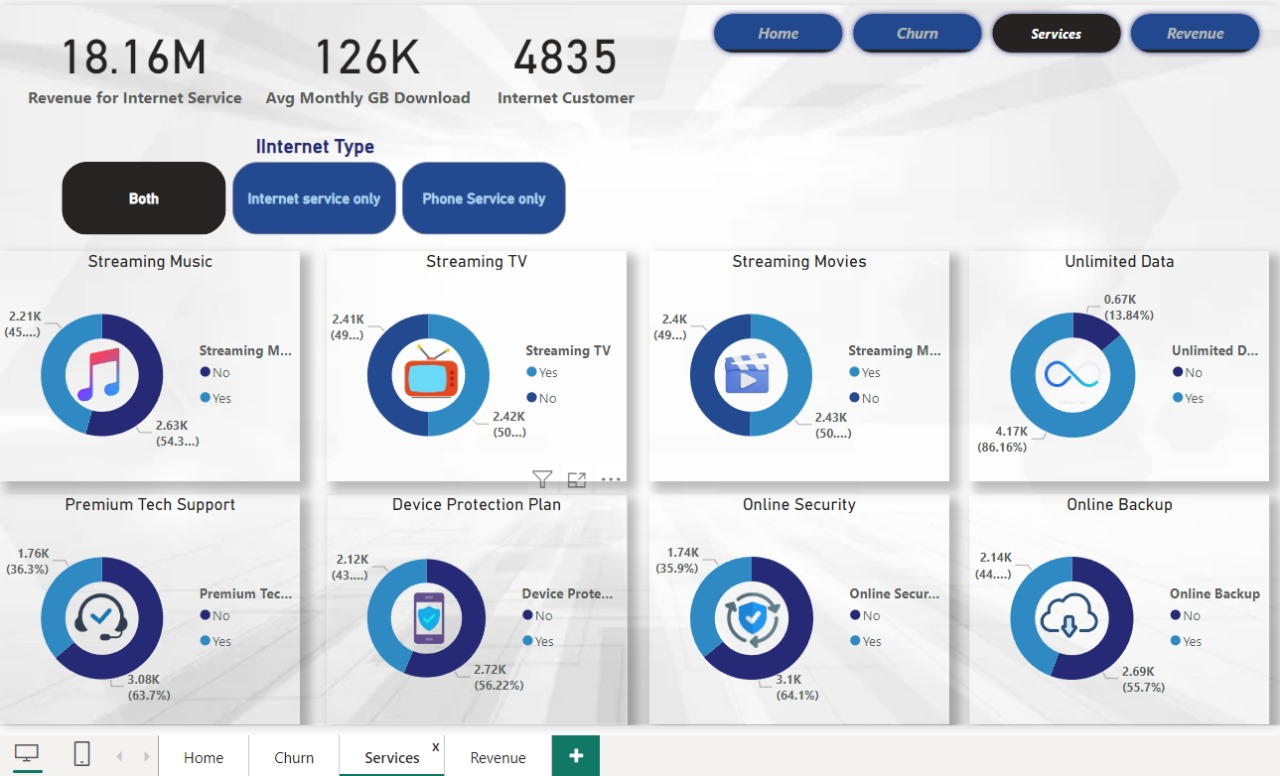

The dashboard page shown, as its layout file describes it:
{"tool":"powerbi","page":{"name":"Services","canvas":[1280,720],"ordinal":2},"visuals":[{"type":"donutChart","title":"Online Backup","fields":{"Category":["telecom_customer.Online Backup"],"Y":["CountNonNull(telecom_customer.Customer ID)"]},"box":[969.8,489.2,300.4,230.5],"z":0},{"type":"donutChart","title":" Online Security","fields":{"Y":["CountNonNull(telecom_customer.Customer ID)"],"Category":["telecom_customer.Online Security"]},"box":[648.6,489.2,300.4,230.5],"z":1000},{"type":"donutChart","title":"Device Protection Plan","fields":{"Category":["telecom_customer.Device Protection Plan"],"Y":["CountNonNull(telecom_customer.Customer ID)"]},"box":[326.1,489.2,300.4,230.5],"z":2000},{"type":"donutChart","title":"Streaming TV","fields":{"Category":["telecom_customer.Streaming TV"],"Y":["CountNonNull(telecom_customer.Customer ID)"]},"box":[326.1,245.2,300.4,230.5],"z":3000},{"type":"donutChart","title":" Streaming Music","fields":{"Y":["CountNonNull(telecom_customer.Customer ID)"],"Category":["telecom_customer.Streaming Music"]},"box":[0,245.2,300.4,230.5],"z":4000},{"type":"donutChart","title":"Streaming Movies","fields":{"Y":["CountNonNull(telecom_customer.Customer ID)"],"Category":["telecom_customer.Streaming Movies"]},"box":[648.6,245.2,300.4,230.5],"z":5000},{"type":"donutChart","title":"Premium Tech Support","fields":{"Y":["CountNonNull(telecom_customer.Customer ID)"],"Category":["telecom_customer.Premium Tech Support"]},"box":[0,489.2,300.4,230.5],"z":6000},{"type":"image","box":[36.8,326.1,127.5,88.3],"z":7000},{"type":"donutChart","title":"Unlimited Data","fields":{"Y":["CountNonNull(telecom_customer.Customer ID)"],"Category":["telecom_customer.Unlimited Data"]},"box":[969.8,245.2,300.4,230.5],"z":8000},{"type":"card","fields":{"Values":["telecom_customer.Count of Customer ID for Yes"]},"box":[460.8,0,210.9,114.2],"z":9000},{"type":"image","box":[998,577.5,142.2,67.4],"z":10000},{"type":"image","box":[681.7,335.9,130,67.4],"z":11000},{"type":"image","box":[370.3,583.6,118.9,61.3],"z":12000},{"type":"image","box":[326.1,313.9,209.7,112.8],"z":13000},{"type":"image","box":[693.9,583.6,117.7,65],"z":14000},{"type":"image","box":[998,335.9,150.8,78.5],"z":15000},{"type":"image","box":[19.6,567.7,161.8,90.7],"z":16000},{"type":"card","fields":{"Values":["telecom_customer.Total Revenue for Yes"]},"box":[10.7,0,243.2,114.2],"z":17000},{"type":"advancedSlicerVisual","title":"IInternet Type","fields":{"Values":["telecom_customer.Internet Type"]},"box":[56.7,124.3,479,111],"z":18000},{"type":"pageNavigator","box":[709.3,4,557.5,49.7],"z":19000},{"type":"card","fields":{"Values":["Sum(telecom_customer.Avg Monthly GB Download)"]},"box":[253.9,0,223,114.2],"z":20000}]}

Visuals, with their boxes on the page's 1280x720 design canvas (x1, y1, x2, y2). These are canvas units, not pixel positions in the 1280x776 screenshot, which may show the page scaled, cropped or inside an application window:
"Online Backup" donutChart: select_region(970, 489, 1270, 720)
" Online Security" donutChart: select_region(649, 489, 949, 720)
"Device Protection Plan" donutChart: select_region(326, 489, 626, 720)
"Streaming TV" donutChart: select_region(326, 245, 626, 476)
" Streaming Music" donutChart: select_region(0, 245, 300, 476)
"Streaming Movies" donutChart: select_region(649, 245, 949, 476)
"Premium Tech Support" donutChart: select_region(0, 489, 300, 720)
image: select_region(37, 326, 164, 414)
"Unlimited Data" donutChart: select_region(970, 245, 1270, 476)
card - telecom_customer.Count of Customer ID for Yes: select_region(461, 0, 672, 114)
image: select_region(998, 578, 1140, 645)
image: select_region(682, 336, 812, 403)
image: select_region(370, 584, 489, 645)
image: select_region(326, 314, 536, 427)
image: select_region(694, 584, 812, 649)
image: select_region(998, 336, 1149, 414)
image: select_region(20, 568, 181, 658)
card - telecom_customer.Total Revenue for Yes: select_region(11, 0, 254, 114)
"IInternet Type" advancedSlicerVisual: select_region(57, 124, 536, 235)
pageNavigator: select_region(709, 4, 1267, 54)
card - Sum(telecom_customer.Avg Monthly GB Download): select_region(254, 0, 477, 114)
